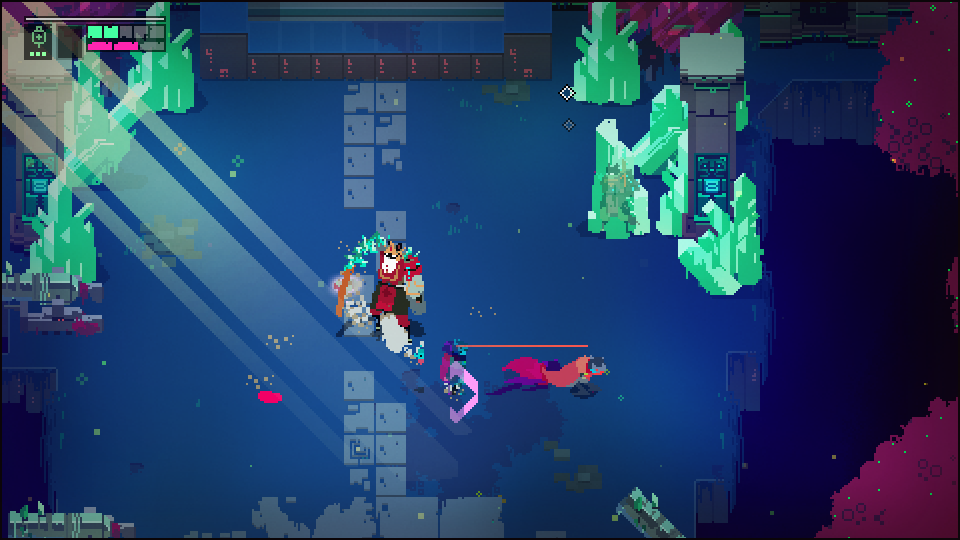hanged_man: (336, 232, 419, 342)
player: (542, 355, 609, 391)
